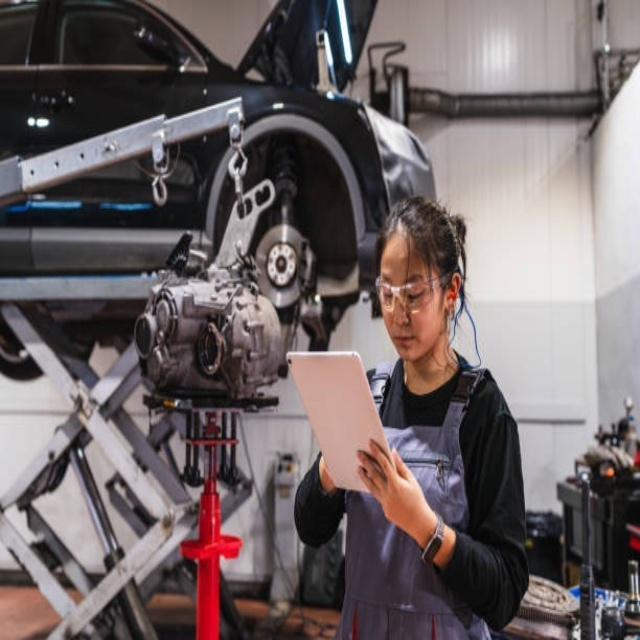Gafas: (375, 273, 446, 314)
Sin_guantes: (351, 433, 424, 530)
Sin_mascara: (389, 326, 418, 358)
